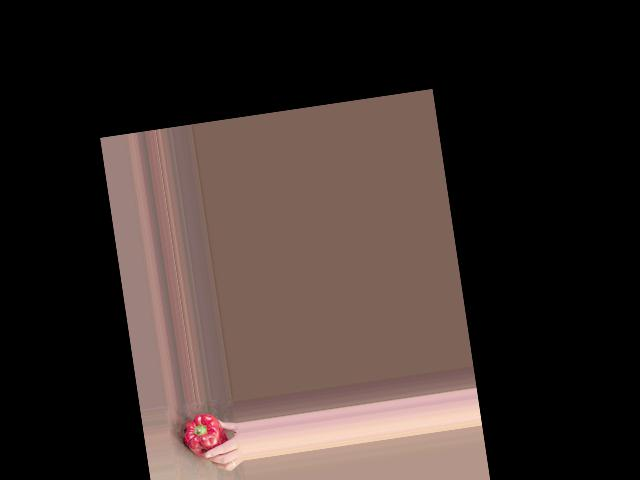bell_pepper: (180, 410, 227, 459)
